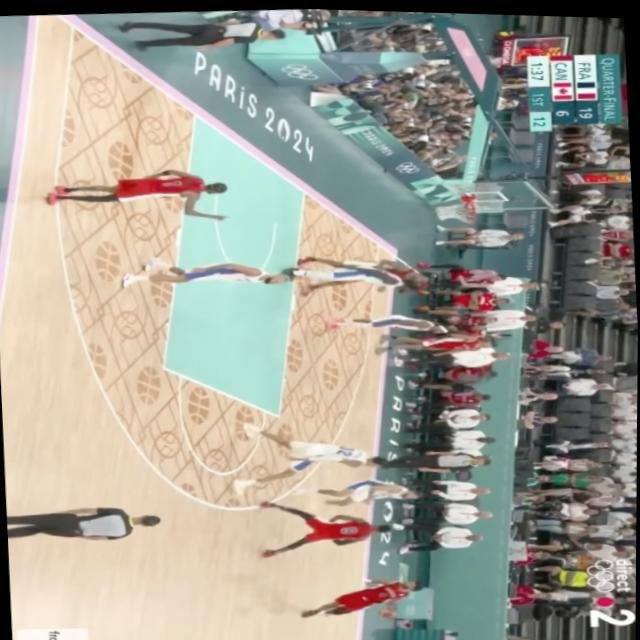ball_handler: (297, 573, 424, 621)
